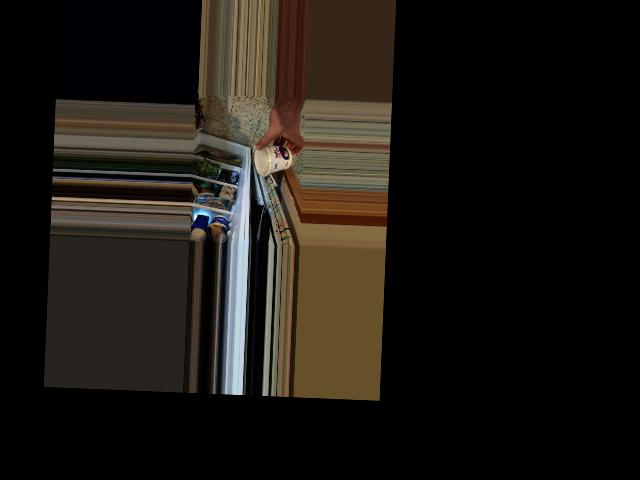cotage: (254, 141, 294, 176)
